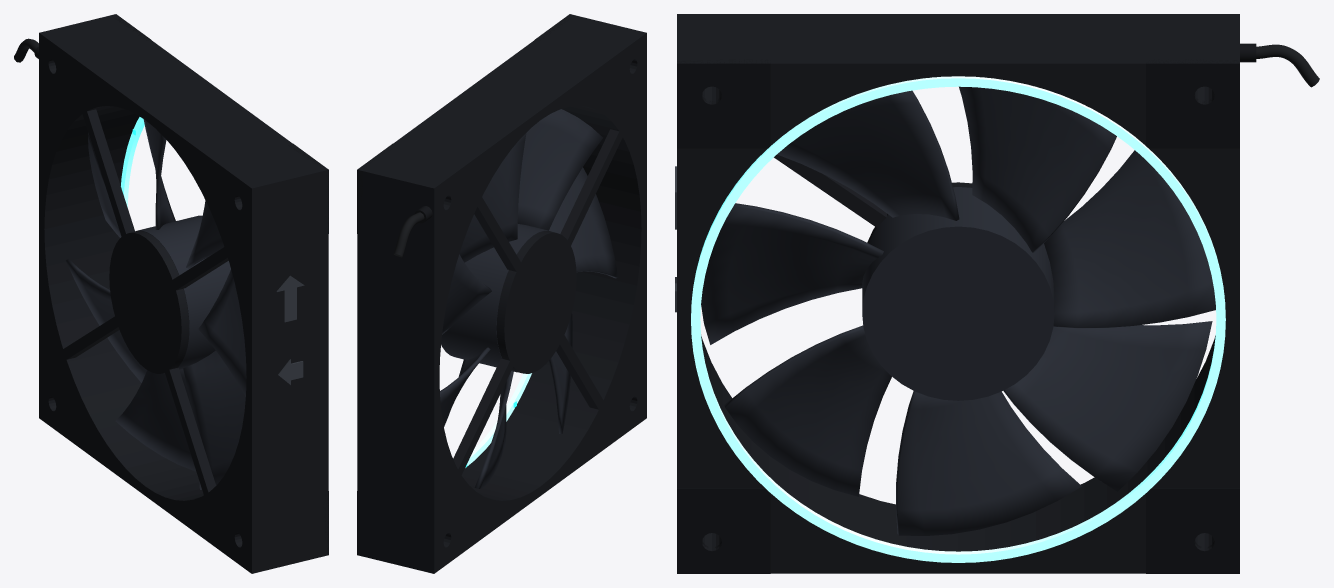
File: f_fan120_argb.glb
The picture shows the model from 3 angles, left to right: view 1: azimuth 30°, elevation 25°; view 2: azimuth 150°, elevation 25°; view 3: azimuth 270°, elevation 25°; orthographic projection. The views are drawn at different scales.
Visible parts, largest first — view 1: part_fan, blades; view 2: part_fan, blades; view 3: blades, part_fan.
Part boxes in pixels (bbox=[...]): part_fan: bbox=[14, 14, 328, 573]; blades: bbox=[66, 119, 246, 489]; part_fan: bbox=[357, 14, 646, 573]; blades: bbox=[440, 109, 618, 488]; blades: bbox=[701, 86, 1215, 535]; part_fan: bbox=[675, 14, 1319, 573].
Size of the model in its own units: 0.2599 by 1.2 by 1.37.
